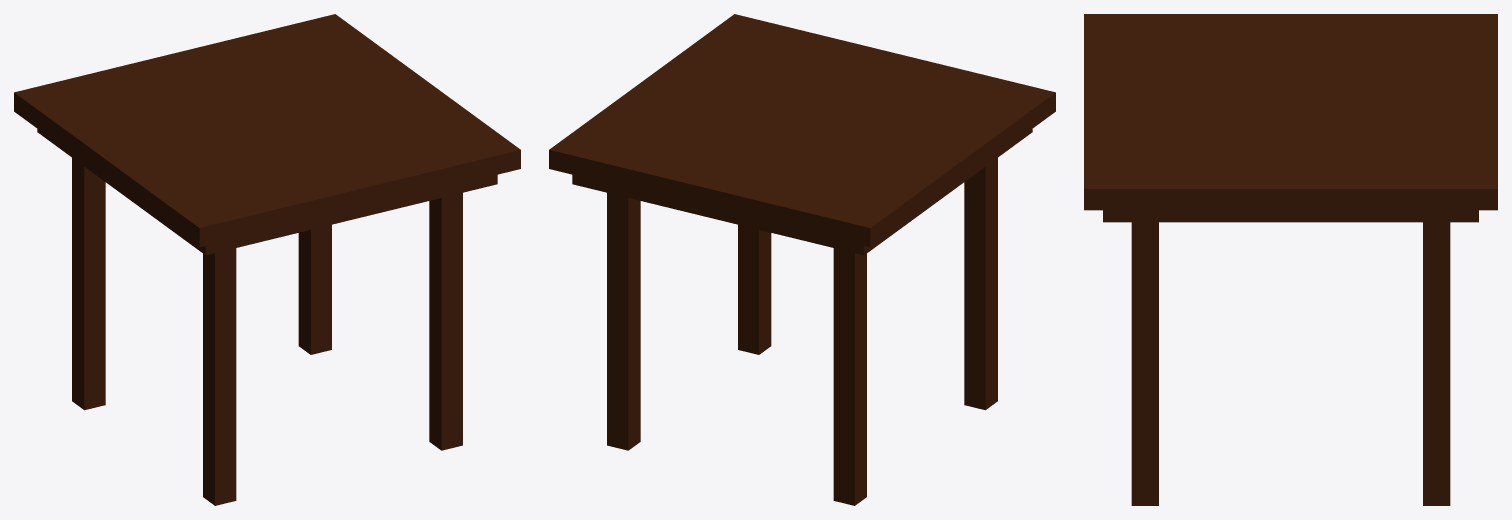
The model's file is table.fbx.
3 views of the same model, side by side, from view 1: azimuth 30°, elevation 25°; view 2: azimuth 150°, elevation 25°; view 3: azimuth 270°, elevation 25° (orthographic). The views are drawn at different scales.
Visible parts, largest first — view 1: Cube; view 2: Cube; view 3: Cube.
Boxes of the visible parts, x1,y1,x2,y2 form: Cube: (14, 14, 520, 505); Cube: (549, 14, 1055, 505); Cube: (1084, 14, 1497, 505).
Size of the model in its own units: 200 by 180 by 200.
